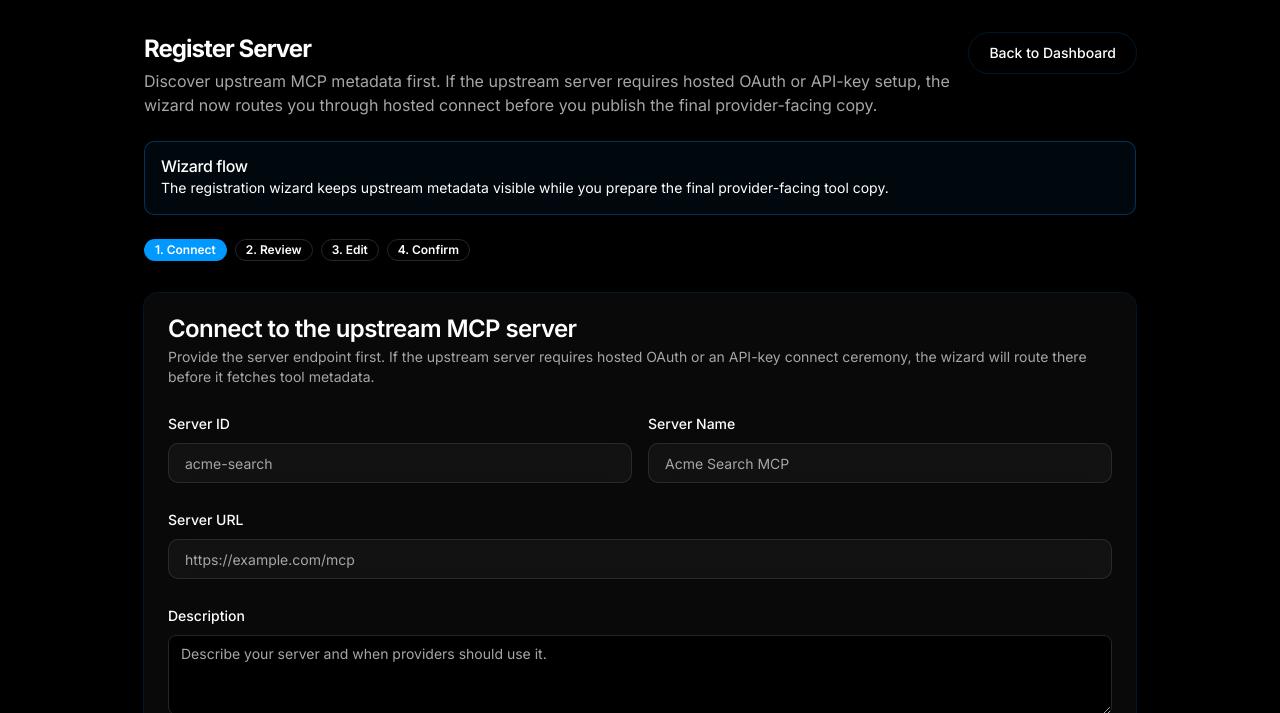
Test case: RegisterServer page › allows manual continuation when discovery fails
Type "srv" into the field labelled "Server ID" at (400, 463), box [168,443,632,483]
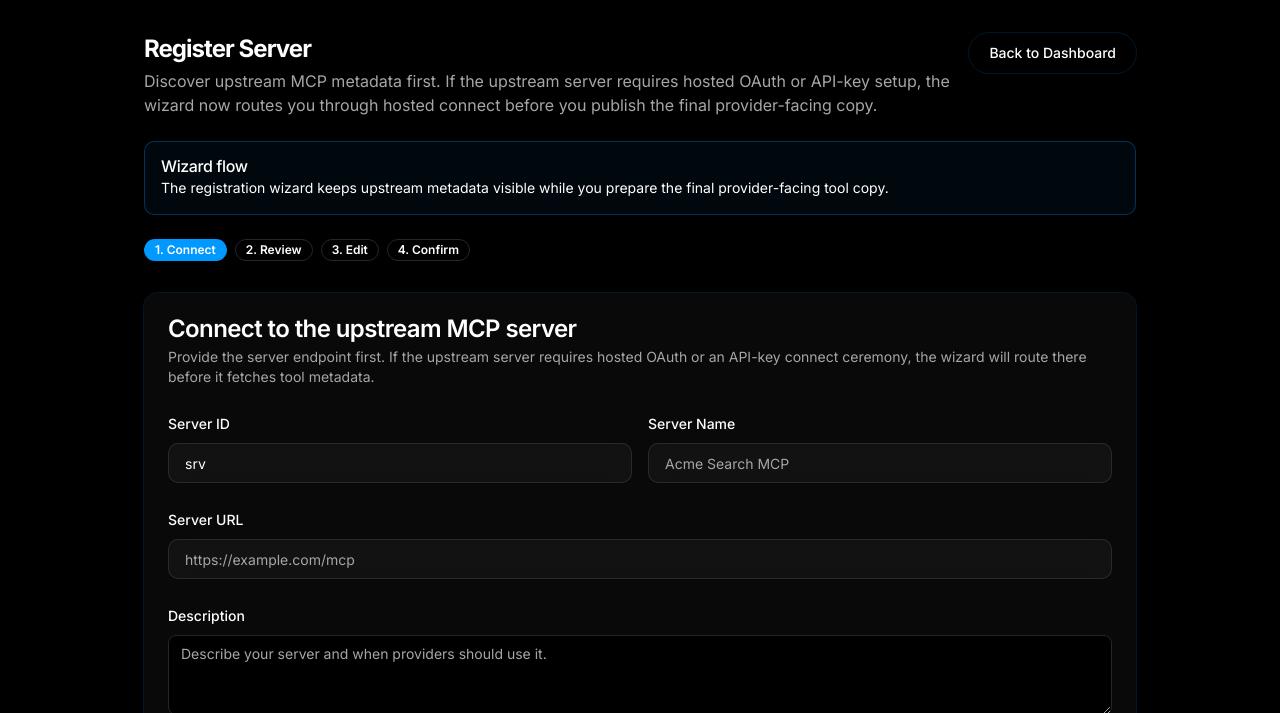
Type "Owned Server" into the field labelled "Server Name" at (880, 463), box [648,443,1112,483]
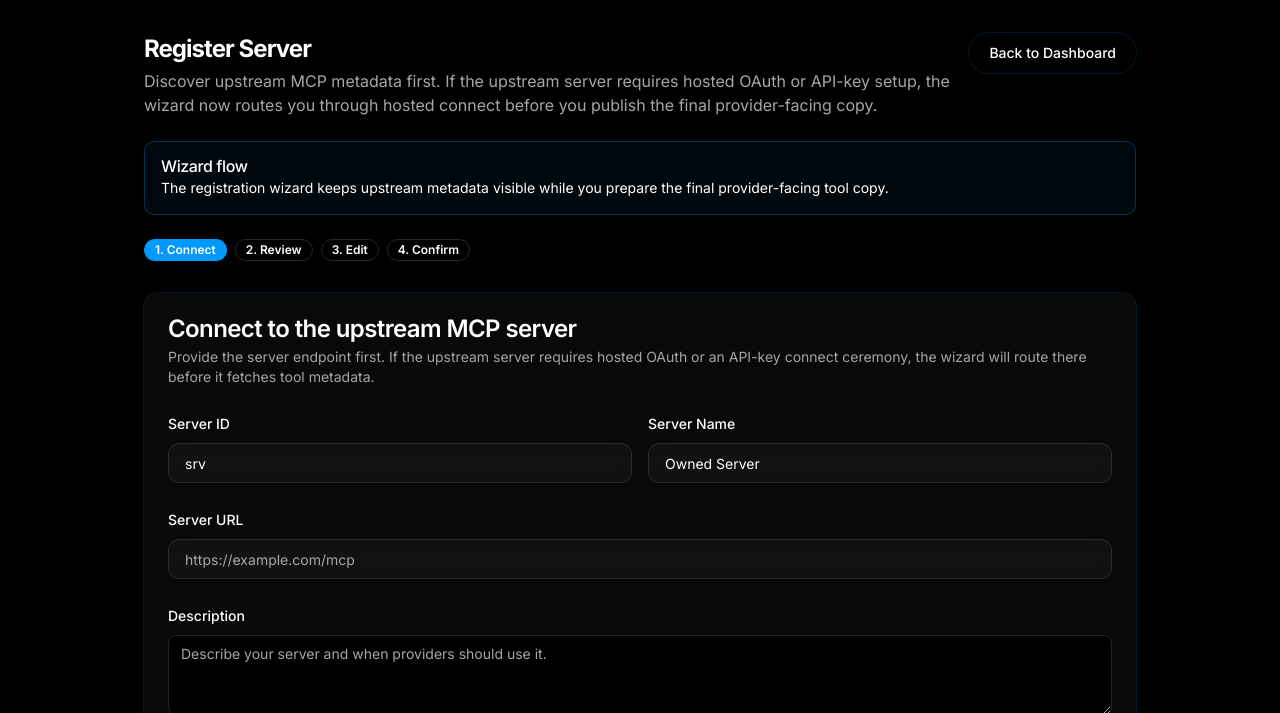
Type "https://provider.test/mcp" into the field labelled "Server URL" at (640, 559), box [168,539,1112,579]
(page scrolled)
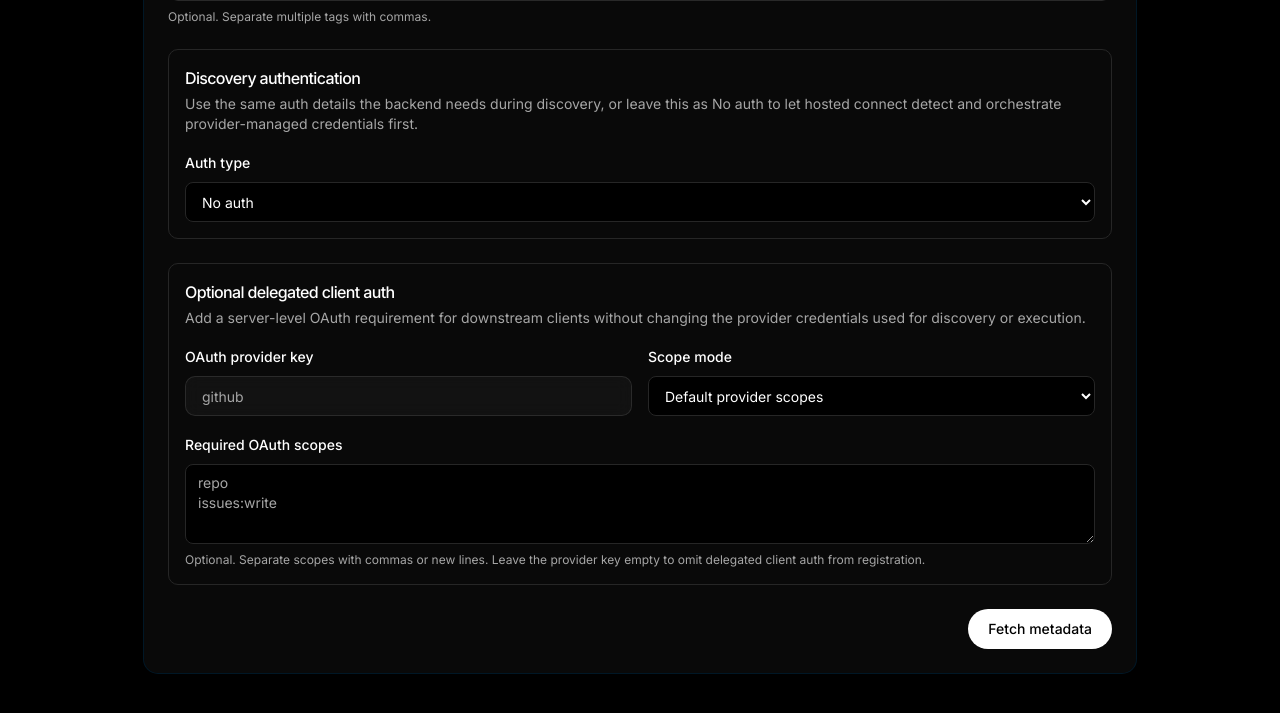
Click the button "Fetch metadata" at (1040, 629), box [968,609,1112,649]
(page scrolled)
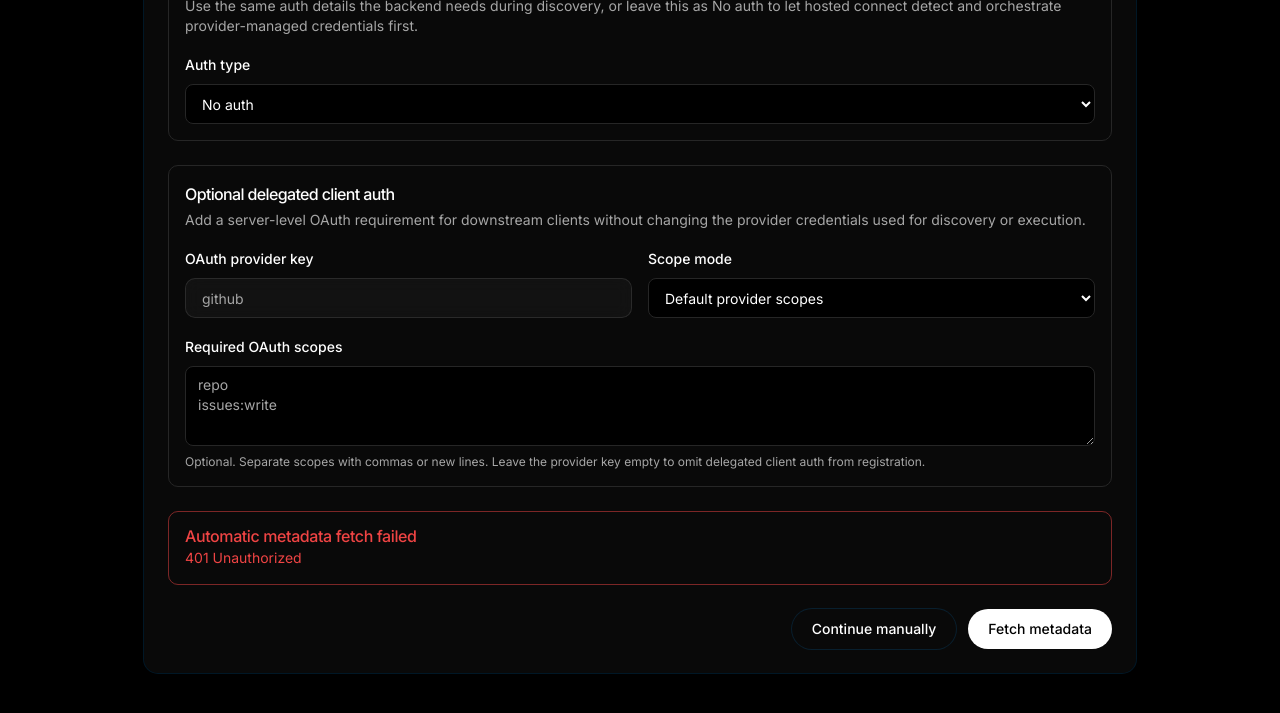
Expected: the heading "Automatic metadata fetch failed" is shown, [185,526,417,546]
Click the button "Continue manually" at (874, 629), box [792,609,956,649]
(page scrolled)
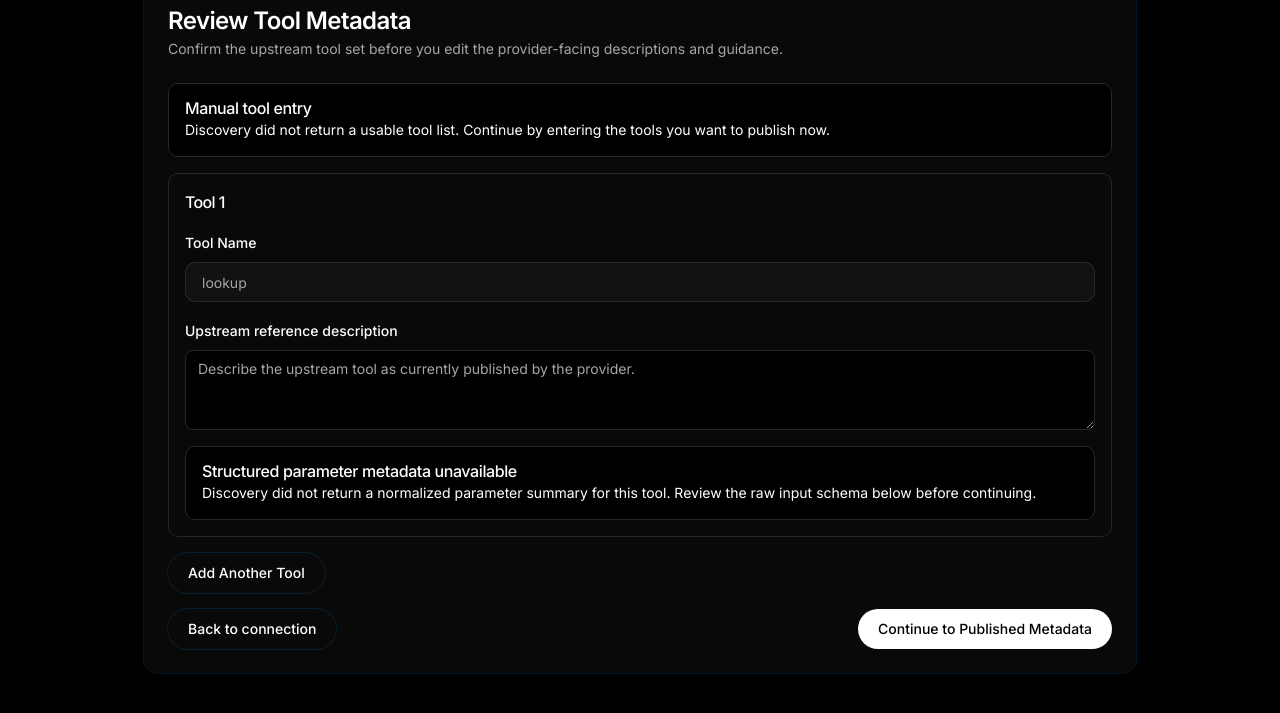
Expected: the heading "Review Tool Metadata" is shown, [168,6,411,35]
Expected: the field labelled "Tool Name" is shown, [185,262,1095,302]
